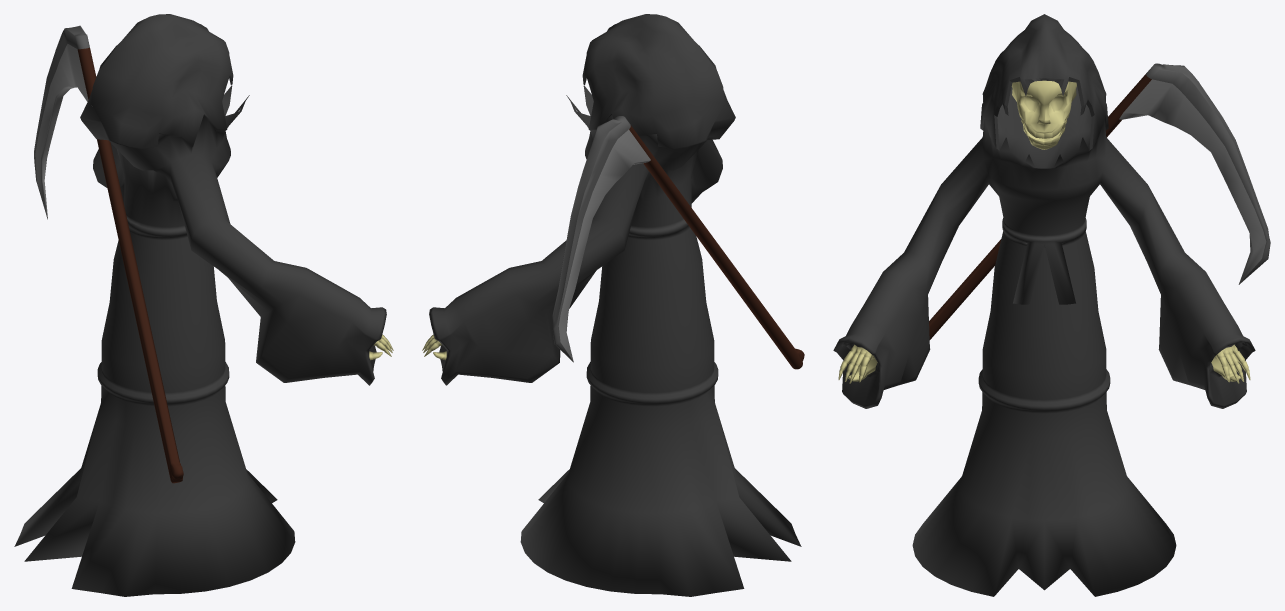
File: Reaper5.fbx
The picture shows the model from 3 angles, left to right: view 1: azimuth 30°, elevation 25°; view 2: azimuth 150°, elevation 25°; view 3: azimuth 270°, elevation 25°; orthographic projection.
Parts seen in each view (by area): view 1: Body.001, Scythe.001; view 2: Body.001, Scythe.001; view 3: Body.001, Scythe.001, Head.001.
Boxes of the visible parts, x1,y1,x2,y2 form: Body.001: (14,14,393,596); Scythe.001: (34,25,183,483); Body.001: (422,14,801,596); Scythe.001: (552,116,804,369); Body.001: (833,14,1255,596); Scythe.001: (929,63,1270,339); Head.001: (1011,80,1076,149).
Size of the model in its own units: 196 by 360 by 272.
